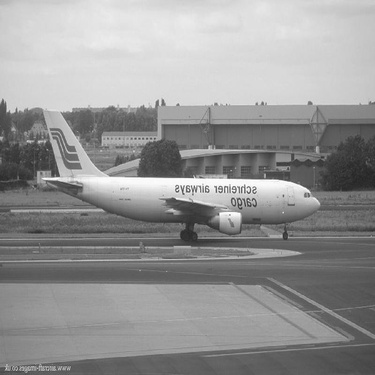airplane: (29, 100, 326, 250)
